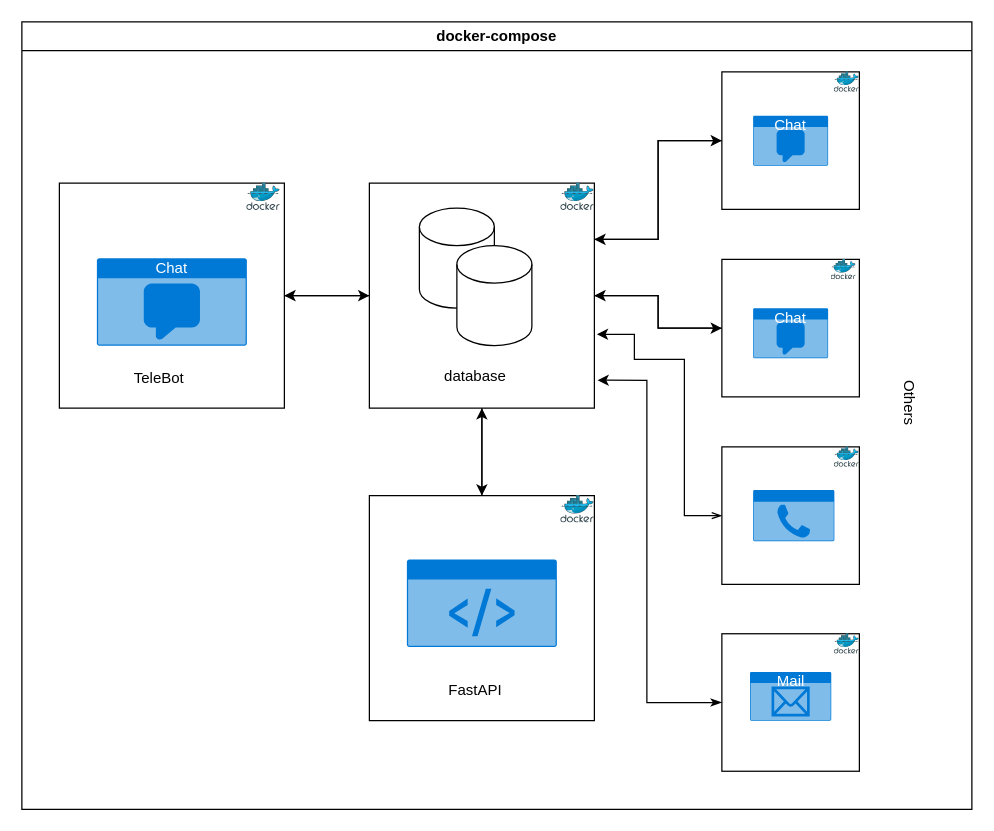
Some shapes in this 994 by 831 pixel diagram are drawn without their labels. Each missing label, with the centre of its shape:
"Contact us" goes at point 793,515.
"Script" goes at point 481,602.
